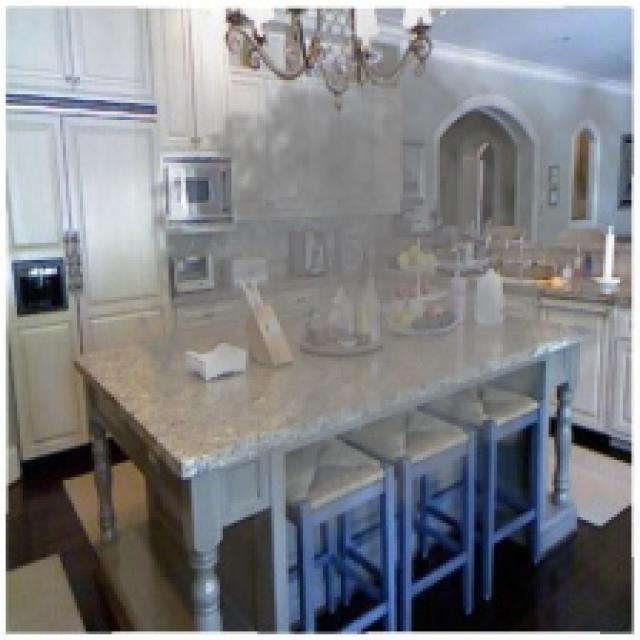smoke: (123, 9, 637, 574)
